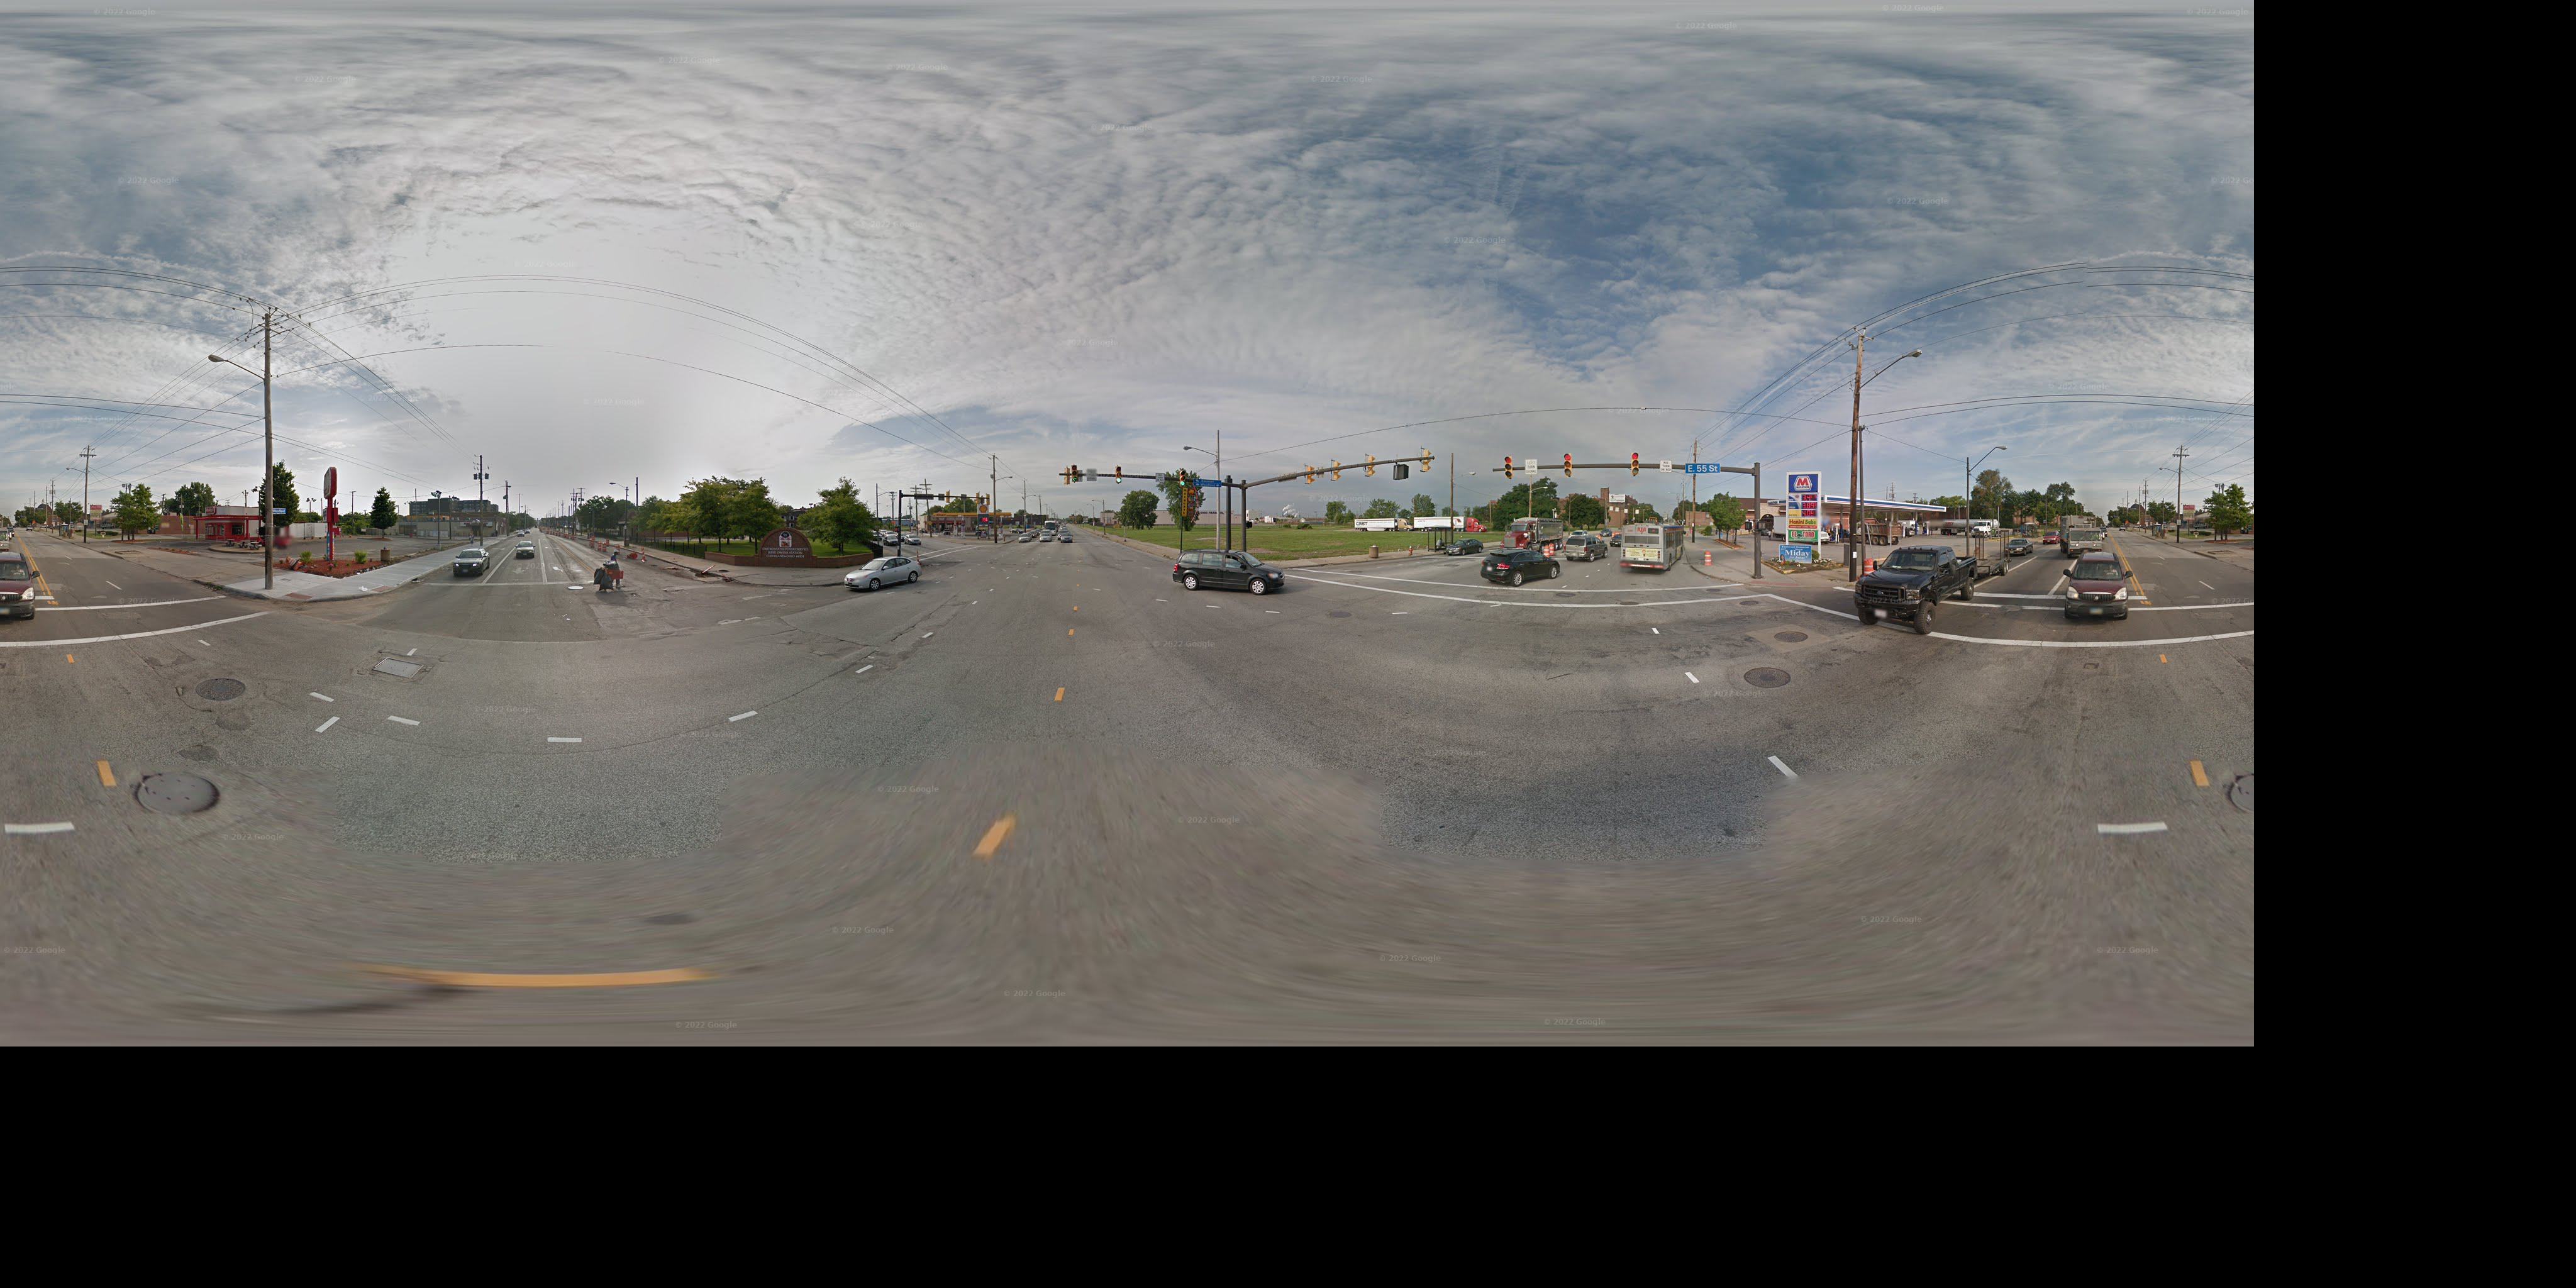Curb Ramp: (1738, 568, 1830, 605), (365, 580, 406, 601)
Irregular Ramp: (733, 570, 787, 596), (271, 585, 319, 611)
